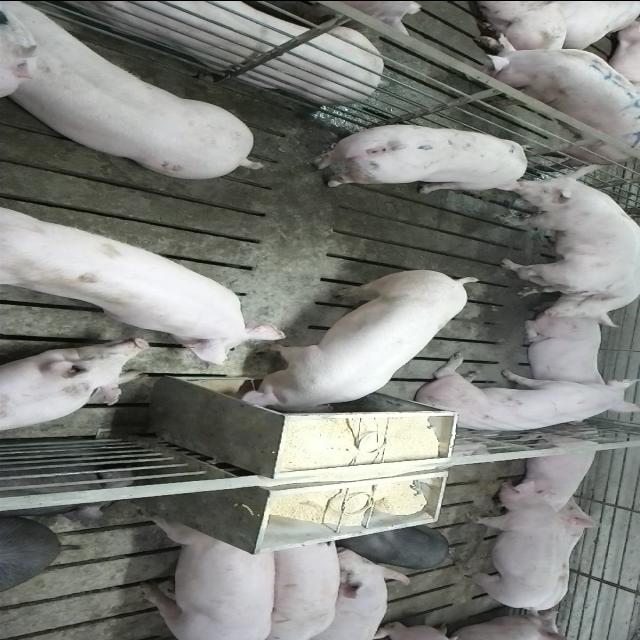Feeding: (6, 200, 292, 366), (234, 272, 480, 422)
Sitting: (496, 160, 638, 296), (407, 356, 636, 436)
Standing: (5, 5, 267, 184), (448, 30, 640, 160), (132, 508, 274, 638), (308, 121, 533, 196), (454, 478, 562, 612), (275, 548, 411, 640), (266, 535, 340, 640)
Sternal_lying: (52, 0, 412, 101), (0, 340, 149, 438), (508, 429, 604, 507), (519, 314, 609, 388)
